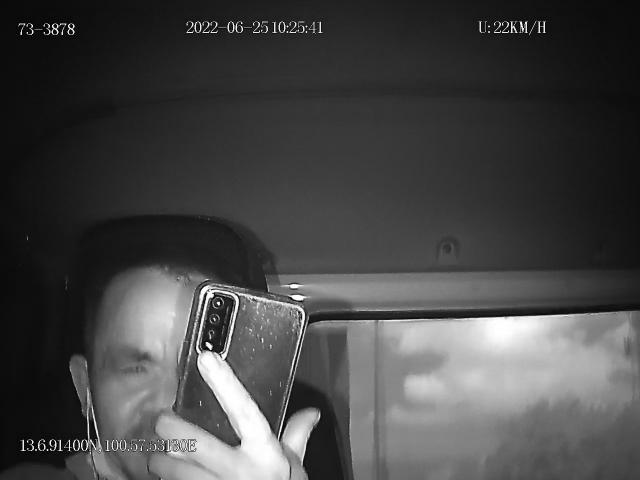Phone: (163, 280, 309, 480)
